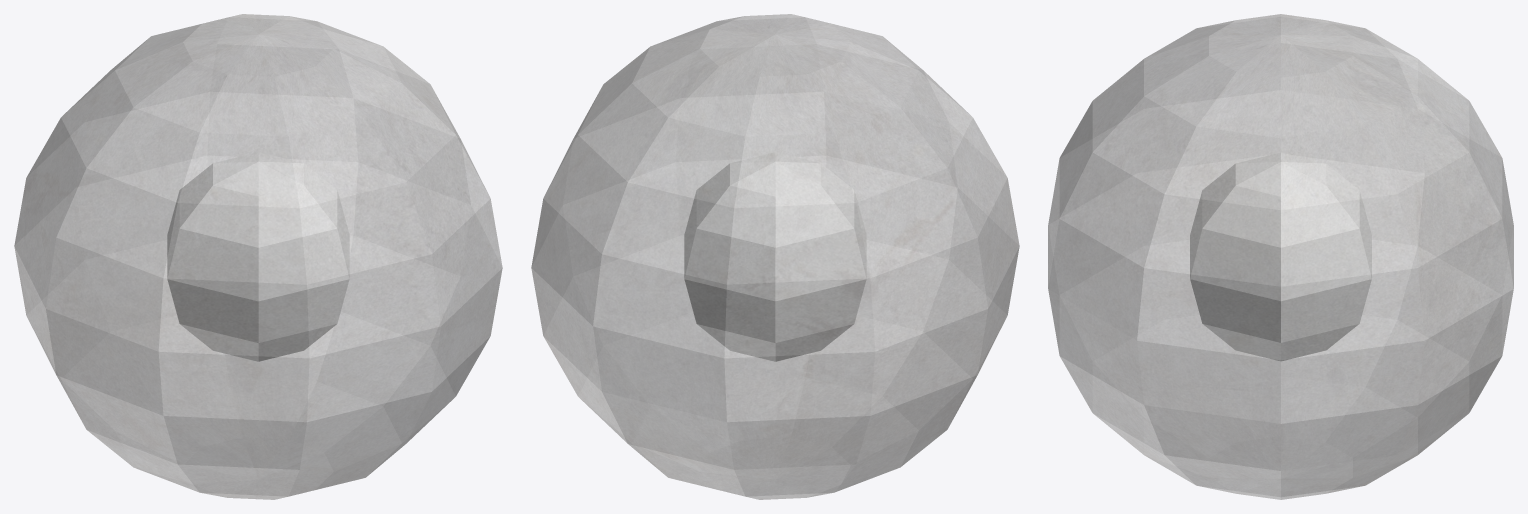
Rendered from SkinCell_Textured.fbx.
3 views of the same model, side by side, from view 1: azimuth 30°, elevation 25°; view 2: azimuth 150°, elevation 25°; view 3: azimuth 270°, elevation 25° (orthographic).
Parts seen in each view (by area): view 1: pSphere1, pSphere2; view 2: pSphere1, pSphere2; view 3: pSphere1, pSphere2.
Boxes of the visible parts, <box> form: pSphere1: <box>14,14,502,499</box>; pSphere2: <box>167,152,349,361</box>; pSphere1: <box>531,14,1019,499</box>; pSphere2: <box>684,152,866,361</box>; pSphere1: <box>1048,14,1513,499</box>; pSphere2: <box>1190,152,1371,361</box>.
Size of the model in its own units: 14 by 14 by 13.31.
